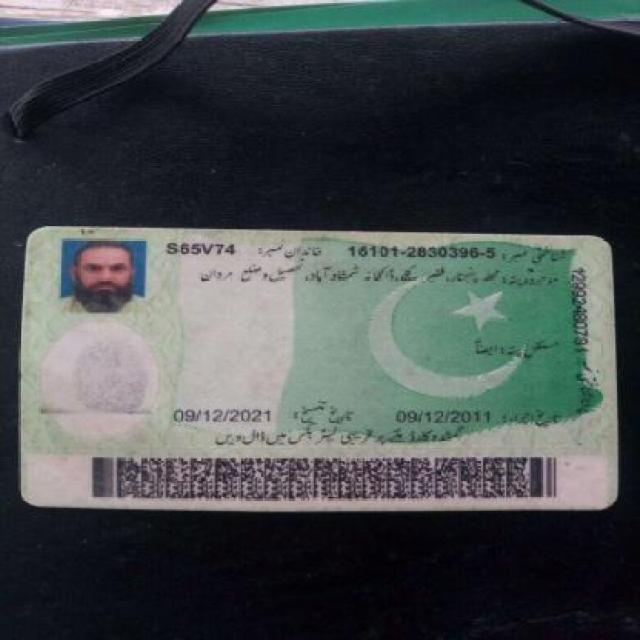Back: (11, 218, 626, 516)
